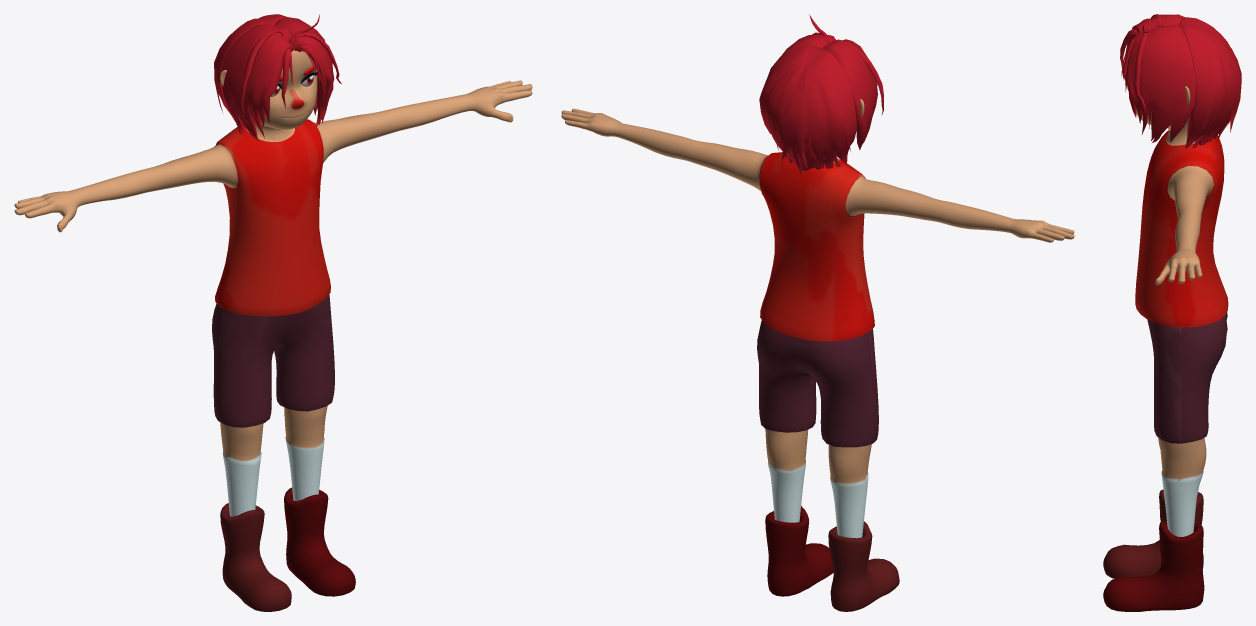
Rendered from FAISCA.fbx.
3 renders of one model, left to right at view 1: azimuth 30°, elevation 25°; view 2: azimuth 150°, elevation 25°; view 3: azimuth 270°, elevation 25°, orthographic. The views are drawn at different scales.
Visible parts, largest first — view 1: polySurface5, polySurface52.001, polySurface7, polySurface9; view 2: polySurface5, polySurface52.001, polySurface9, polySurface7; view 3: polySurface5, polySurface52.001, polySurface7, polySurface9.
Boxes of the visible parts, x1,y1,x2,y2 form: polySurface5: (14,50,532,516); polySurface52.001: (214,14,341,141); polySurface7: (284,487,355,596); polySurface9: (220,503,291,611); polySurface5: (561,99,1074,538); polySurface52.001: (759,14,883,174); polySurface9: (828,521,899,611); polySurface7: (765,506,833,596); polySurface5: (1127,86,1228,536); polySurface52.001: (1120,14,1241,149); polySurface7: (1103,521,1204,611); polySurface9: (1103,489,1203,578).
Bounding box in the file's own units: 136 × 143 × 31.
